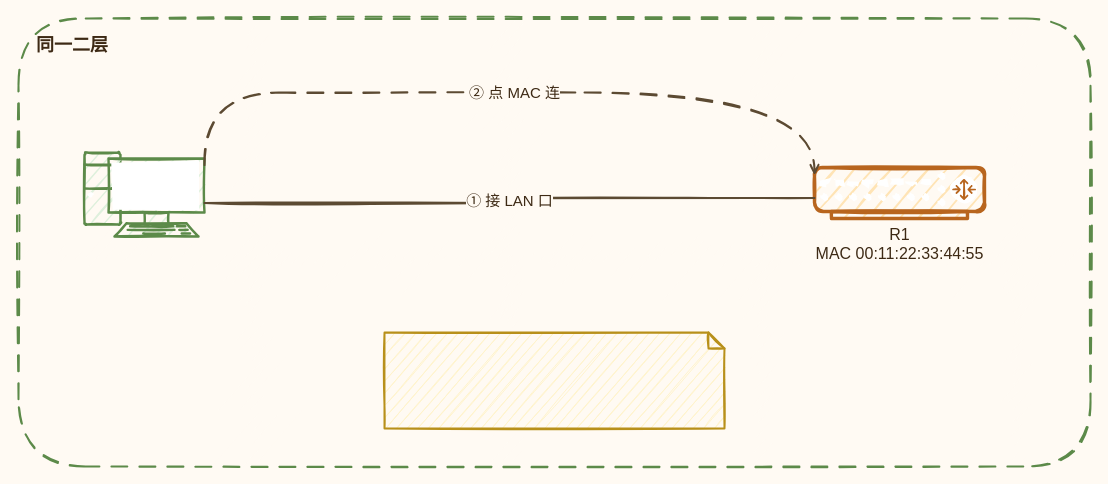
Image size: 1108x484. Some labels were removed from this diagram. Each missing label, with the centre of its shape:
Neighbors 里点 MAC 不要点 IP 0.0.0.0: (554,380)
管理电脑 WinBox: (144,194)
